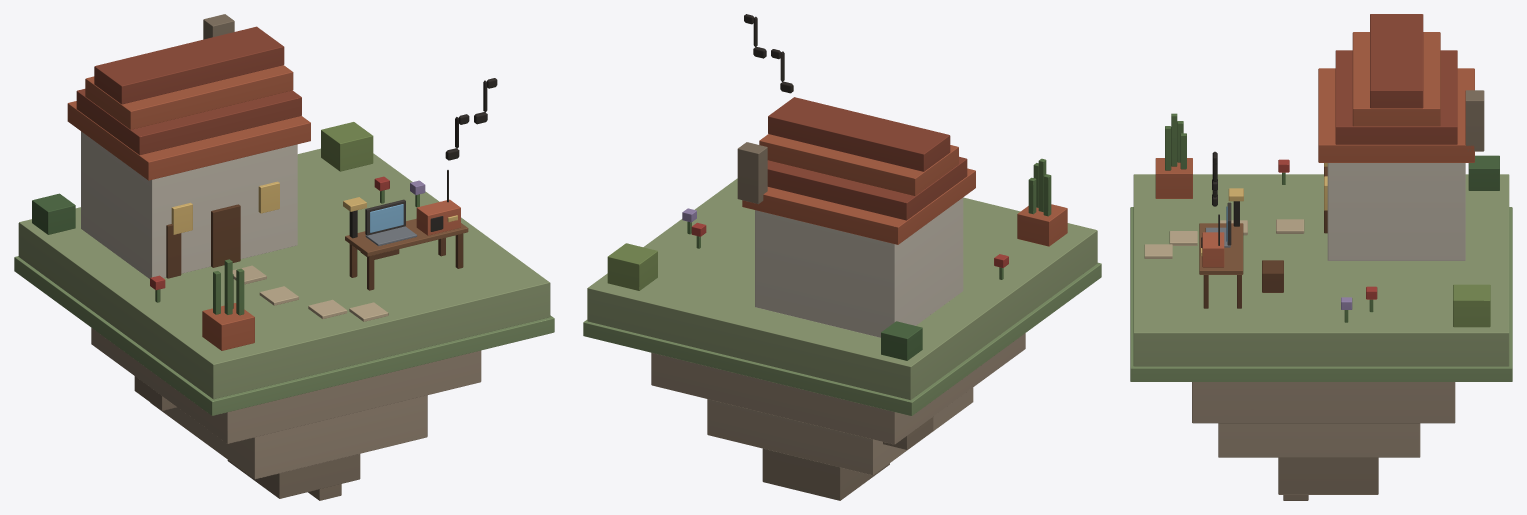
The model's file is region_00.glb.
3 renders of one model, left to right at view 1: azimuth 30°, elevation 25°; view 2: azimuth 150°, elevation 25°; view 3: azimuth 270°, elevation 25°, orthographic. The views are drawn at different scales.
Parts seen in each view (by area): view 1: region_00_static, region_00_glow, region_00_notes; view 2: region_00_static, region_00_notes; view 3: region_00_static, region_00_glow.
Boxes of the visible parts, box(x1,y1,x2,y2) form: region_00_static: box(14, 14, 554, 500); region_00_glow: box(171, 181, 457, 234); region_00_notes: box(445, 78, 497, 160); region_00_static: box(583, 97, 1101, 500); region_00_notes: box(744, 14, 793, 93); region_00_static: box(1130, 14, 1512, 500); region_00_glow: box(1200, 163, 1327, 256).
Bounding box in the file's own units: 6.1 × 7.13 × 6.1.
